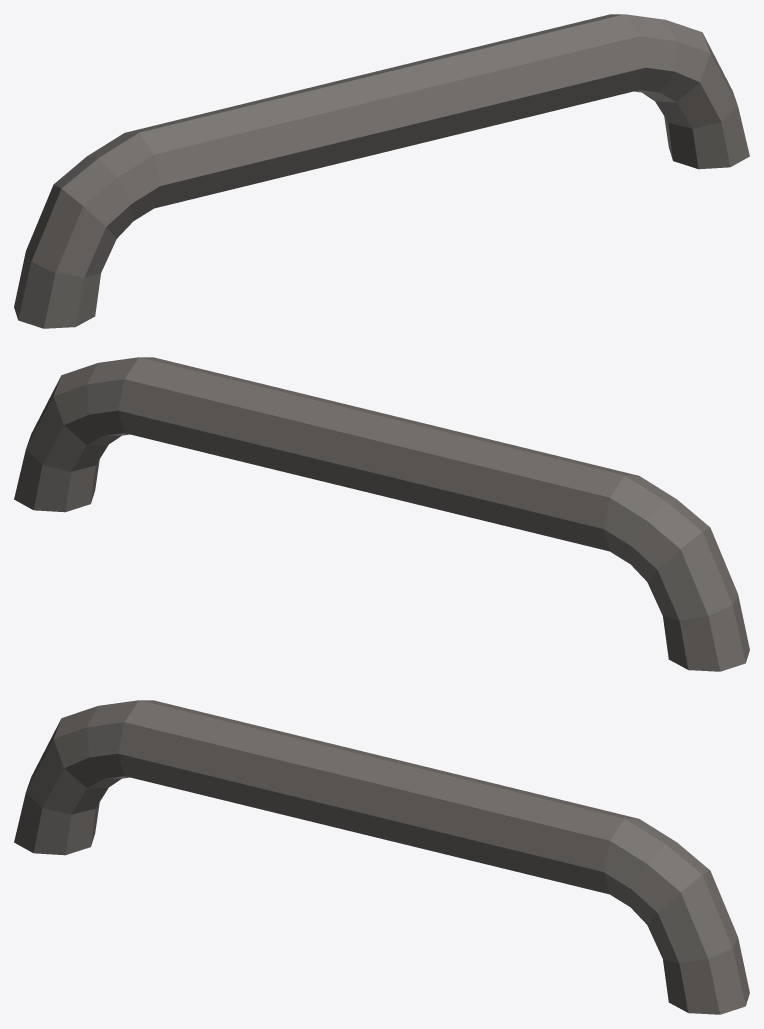
File: HousePart_09.fbx
3 views of the same model, one above another, from view 1: azimuth 30°, elevation 25°; view 2: azimuth 150°, elevation 25°; view 3: azimuth 330°, elevation 25° (orthographic).
Parts seen in each view (by area): view 1: HousePart_09; view 2: HousePart_09; view 3: HousePart_09.
Boxes of the visible parts, box(x1,y1,x2,y2) form: HousePart_09: box(14, 14, 749, 328); HousePart_09: box(14, 357, 749, 671); HousePart_09: box(14, 700, 749, 1014).
Size of the model in its own units: 4.91 by 1.02 by 0.4916.
